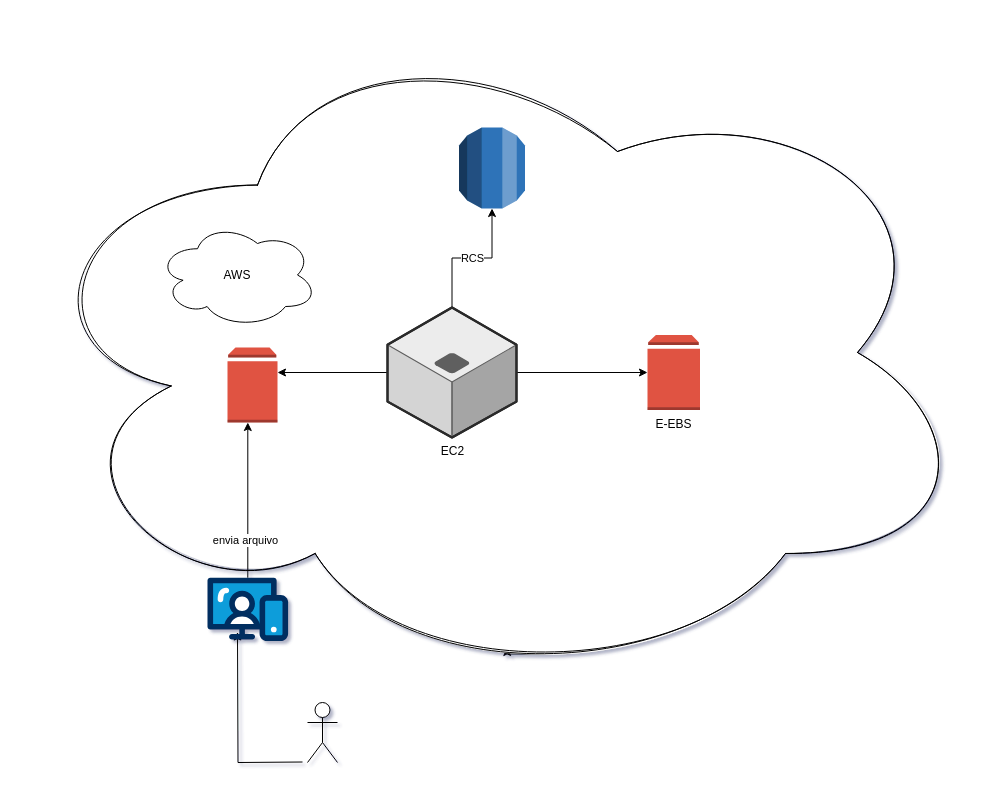
Some shapes in this 1001 by 807 pixel diagram are drawn without their labels. The centre of each missing label's shape, as x and y in pixels:
"Actor" belongs at point 322,732.
"D-EBS" belongs at point 252,384.
